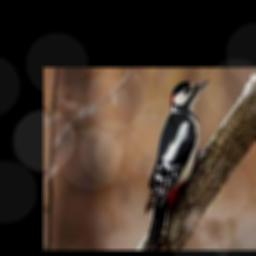Woodpecker: (145, 79, 209, 250)
